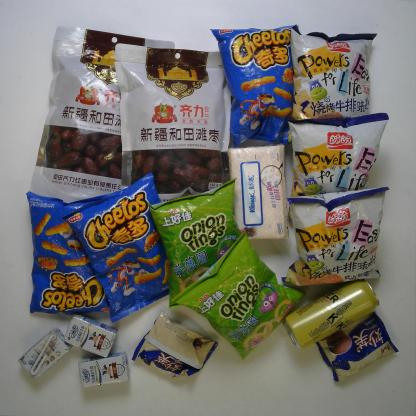Alcohol: (282, 277, 381, 352)
Dessert: (130, 309, 220, 383), (314, 309, 401, 385)
Dried Food: (27, 24, 176, 205), (113, 41, 233, 205)
Milk: (16, 325, 74, 381), (63, 314, 119, 358), (77, 350, 131, 390)
Puffed Food: (170, 230, 307, 362), (62, 170, 171, 324), (146, 176, 241, 312), (284, 110, 390, 226), (23, 189, 117, 316), (279, 184, 392, 289), (209, 22, 302, 149), (286, 24, 378, 148)
Tissue: (225, 141, 291, 243)
